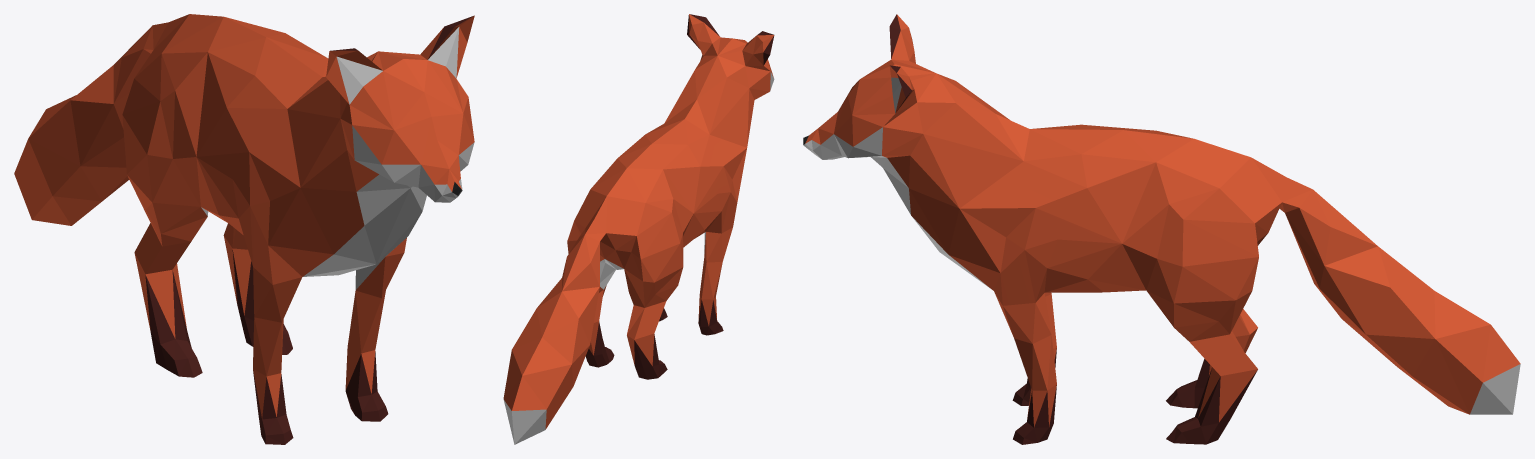
Rendered from fox.fbx.
The picture shows the model from 3 angles, left to right: view 1: azimuth 30°, elevation 25°; view 2: azimuth 150°, elevation 25°; view 3: azimuth 270°, elevation 25°; orthographic projection. The views are drawn at different scales.
Parts seen in each view (by area): view 1: Cube; view 2: Cube; view 3: Cube.
Part boxes in pixels (x1,y1,x2,y2): Cube: (14, 14, 474, 444); Cube: (503, 14, 774, 444); Cube: (803, 14, 1520, 444).
Size of the model in its own units: 212 by 546 by 943.
